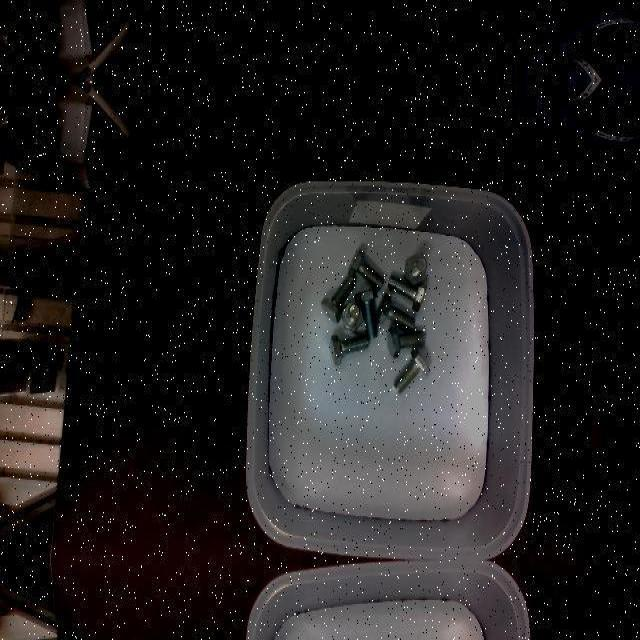screw: (393, 346, 430, 392), (320, 275, 354, 321), (347, 247, 383, 289), (376, 293, 415, 331), (388, 273, 427, 311), (353, 288, 377, 338), (330, 334, 369, 364), (387, 327, 425, 357), (403, 254, 427, 284), (341, 301, 363, 331)
